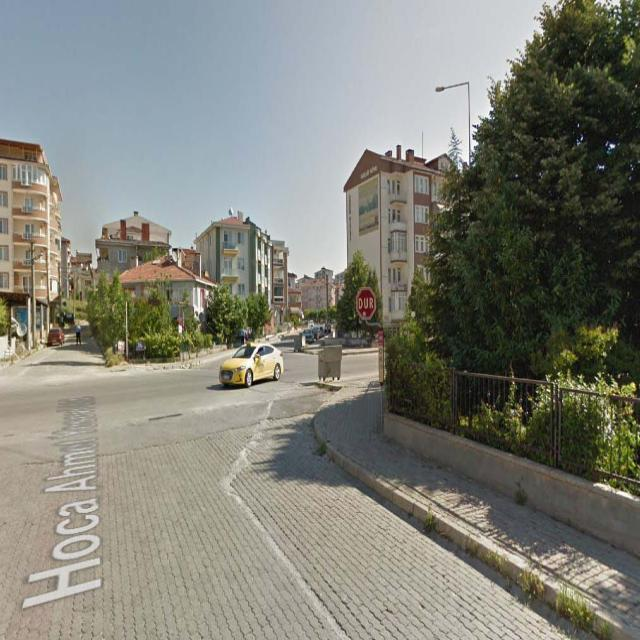dur: (356, 288, 375, 318)
